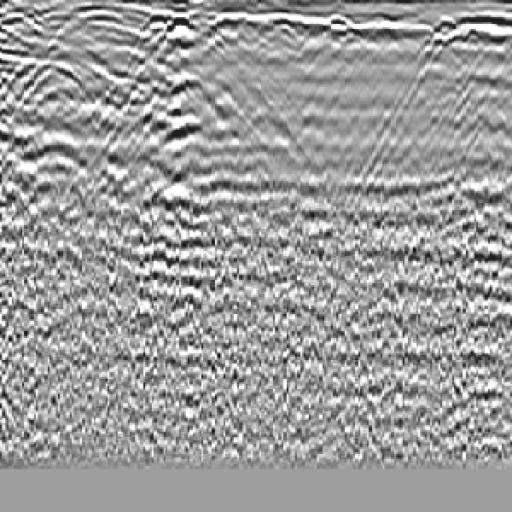non-metallic: (89, 4, 271, 271)
